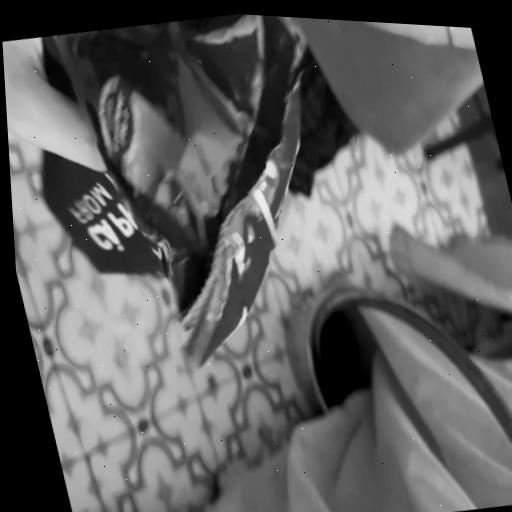cafe_hat: (42, 14, 298, 365)
